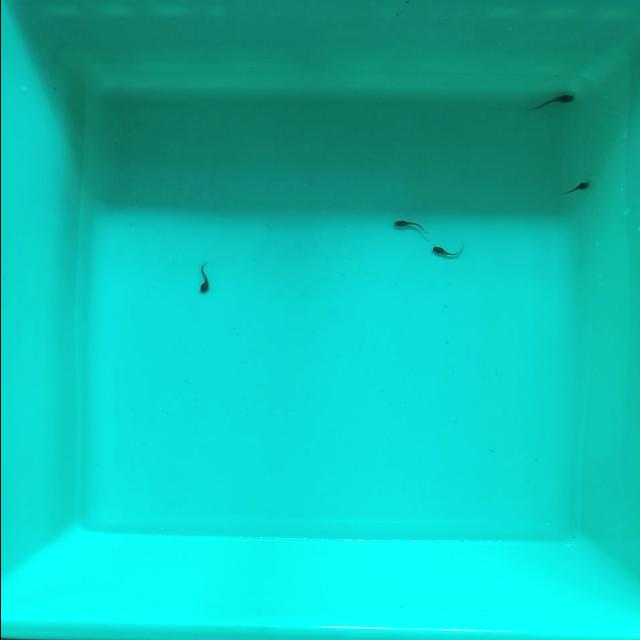lele: (535, 95, 574, 107), (558, 182, 588, 194), (432, 246, 463, 256), (199, 264, 209, 292), (393, 220, 423, 228)
